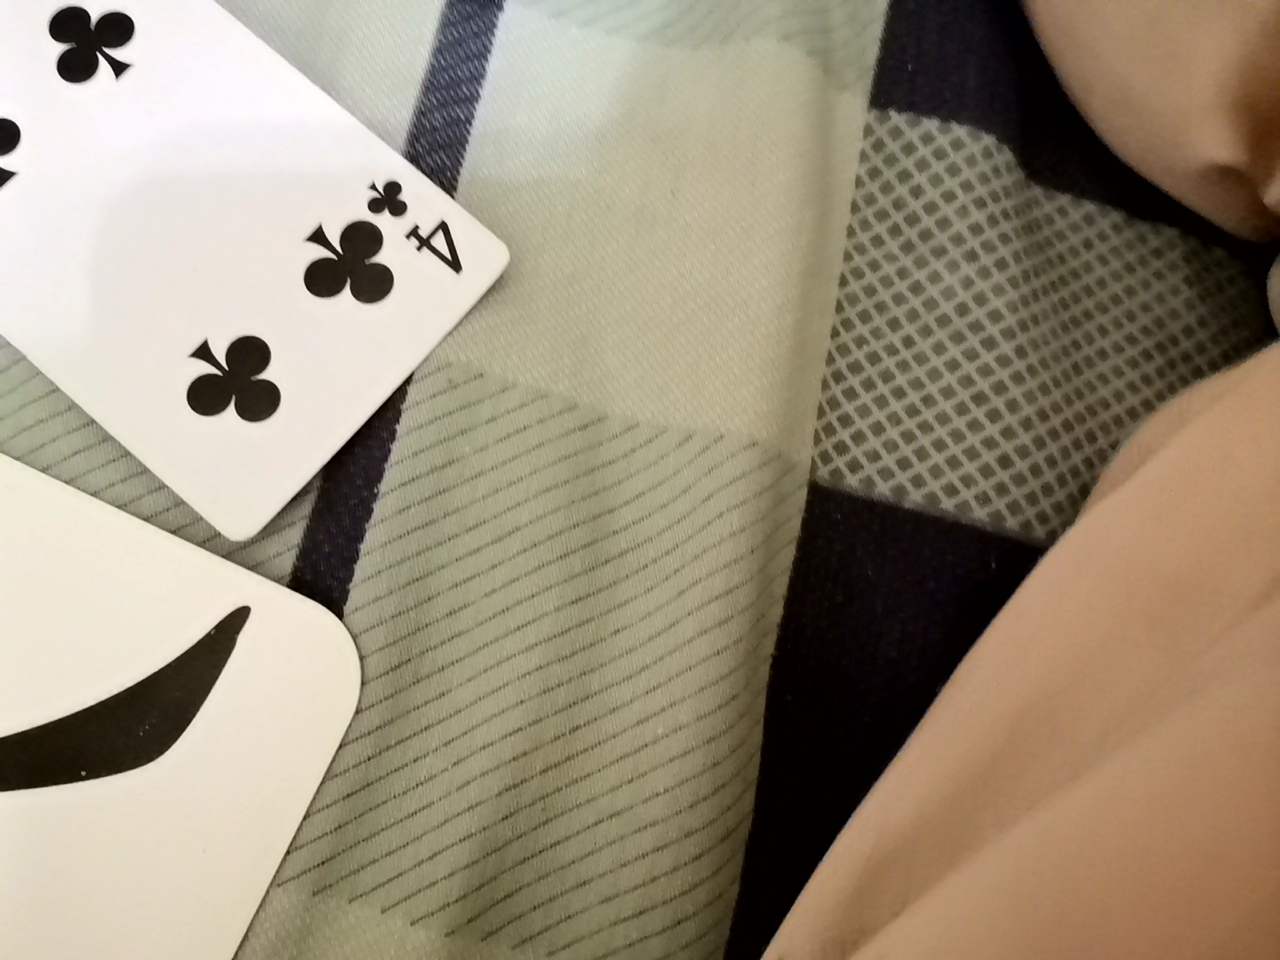mh 4: (8, 7, 503, 563)
